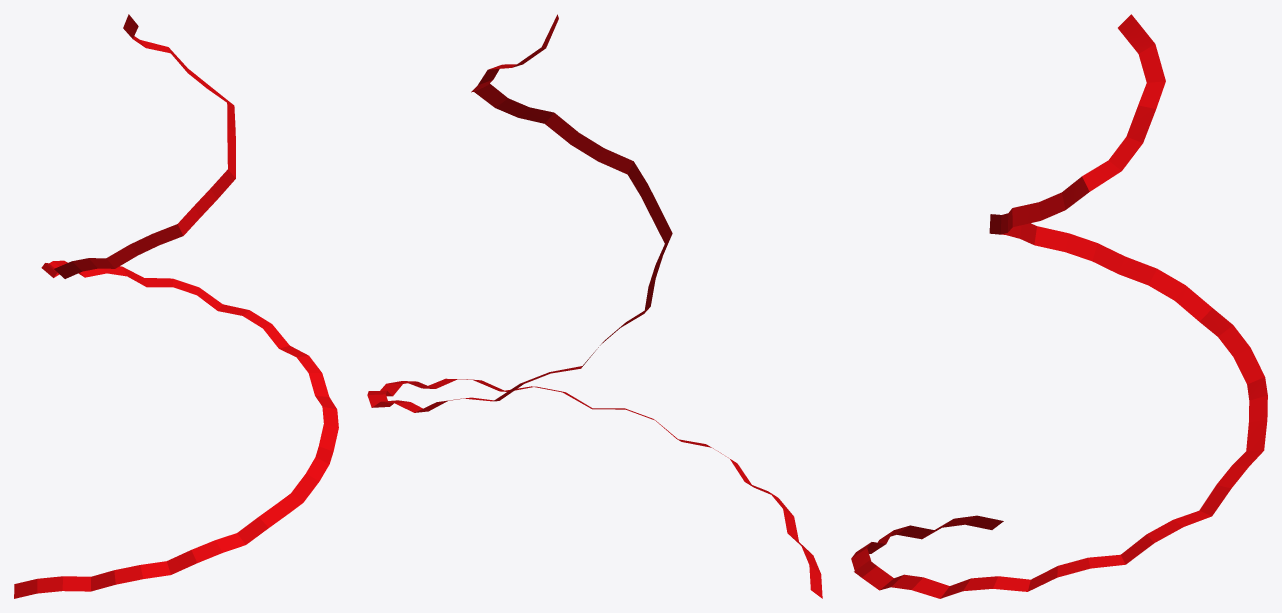
Rendered from Prefab_Xmas_Tree_Ribbon_A.glb.
3 renders of one model, left to right at view 1: azimuth 30°, elevation 25°; view 2: azimuth 150°, elevation 25°; view 3: azimuth 270°, elevation 25°, orthographic. The views are drawn at different scales.
Parts seen in each view (by area): view 1: Ribbon_A; view 2: Ribbon_A; view 3: Ribbon_A.
Part boxes in pixels (left/top/right/bottom): Ribbon_A: left=14, top=14, right=338, bottom=598; Ribbon_A: left=367, top=14, right=822, bottom=598; Ribbon_A: left=851, top=14, right=1267, bottom=598.
Bounding box in the file's own units: 1.32 × 1.89 × 1.15.
